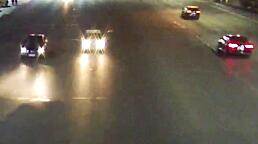car: (216, 33, 255, 55), (18, 33, 48, 59), (80, 28, 106, 52), (181, 4, 201, 18)
